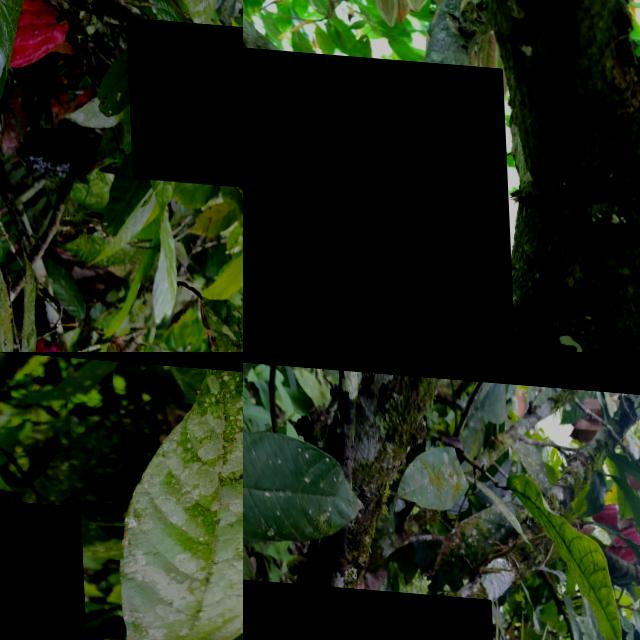Fitoftora: (243, 44, 512, 352)
Monilia: (123, 15, 243, 190), (0, 478, 94, 640)
Sana: (370, 0, 403, 27)
